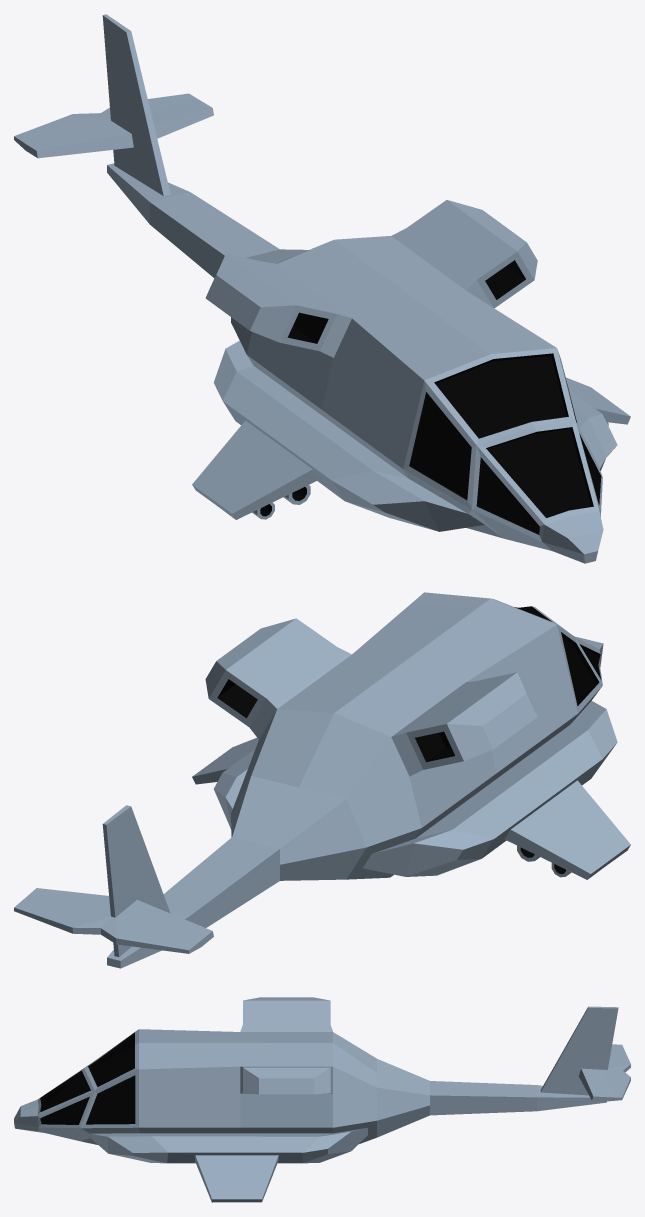
Rendered from heavy_gunship_body.glb.
3 views of the same model, one above another, from view 1: azimuth 30°, elevation 25°; view 2: azimuth 150°, elevation 25°; view 3: azimuth 270°, elevation 25° (orthographic). The views are drawn at different scales.
Visible parts, largest first — view 1: Helicopter_Body; view 2: Helicopter_Body; view 3: Helicopter_Body.
Boxes of the visible parts, x1,y1,x2,y2 form: Helicopter_Body: [14, 14, 630, 563]; Helicopter_Body: [14, 592, 630, 968]; Helicopter_Body: [14, 997, 630, 1202].
Size of the model in its own units: 5.2 by 2.79 by 11.21.
1 material, 1 textured.
